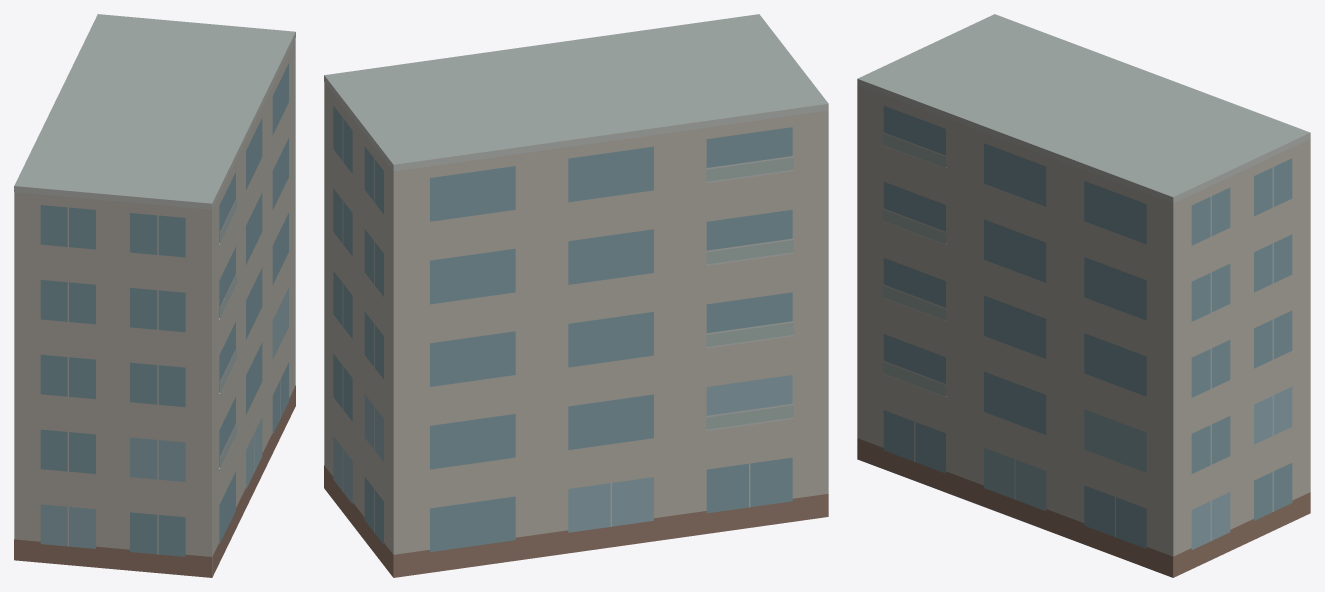
File: survey-upis-32884730.glb
3 renders of one model, left to right at view 1: azimuth 30°, elevation 25°; view 2: azimuth 150°, elevation 25°; view 3: azimuth 270°, elevation 25°, orthographic. The views are drawn at different scales.
Parts seen in each view (by area): view 1: survey-upis-32884730.tmp; view 2: survey-upis-32884730.tmp; view 3: survey-upis-32884730.tmp.
Part boxes in pixels (<box>): survey-upis-32884730.tmp: <box>14,14,295,577</box>; survey-upis-32884730.tmp: <box>324,14,828,577</box>; survey-upis-32884730.tmp: <box>857,14,1310,577</box>.
Size of the model in its own units: 15.61 by 15.1 by 16.31.
